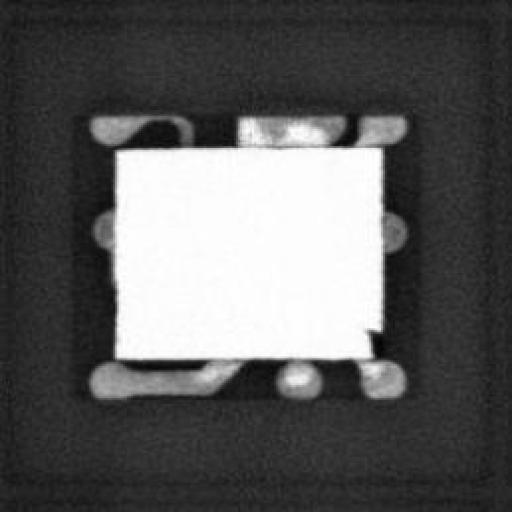DIE_BROKEN: (361, 324, 383, 358)
